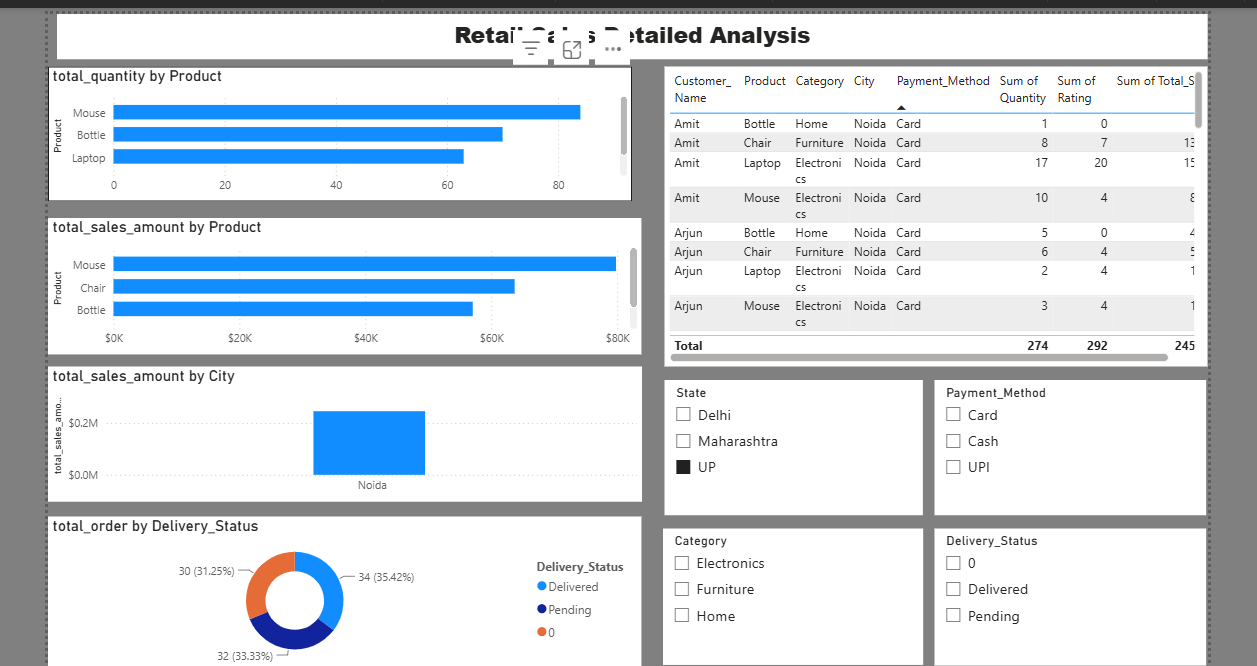

The page's visual inventory and layout, read from the dashboard file:
{"tool":"powerbi","page":{"name":"detailed analysis","canvas":[1280,720],"ordinal":1},"visuals":[{"type":"textbox","box":[9.9,0,1270.5,49.7],"z":0},{"type":"clusteredBarChart","fields":{"Category":["dim_product.Product"],"Y":["fact_table.total_sales_amount"]},"box":[0,224.6,655.3,151],"z":1},{"type":"clusteredColumnChart","fields":{"Category":["dim_customer.City"],"Y":["fact_table.total_sales_amount"]},"box":[0,389.3,655.8,149.3],"z":2},{"type":"donutChart","fields":{"Category":["fact_table.Delivery_Status"],"Y":["dim_customer.total_order"]},"box":[0,554.1,655.3,165.7],"z":3},{"type":"clusteredBarChart","fields":{"Category":["dim_product.Product"],"Y":["dim_customer.total_quantity"]},"box":[0,58.6,644.4,149.3],"z":4},{"type":"tableEx","fields":{"Values":["dim_customer.Customer_Name","dim_product.Product","dim_product.Category","dim_customer.City","fact_table.Payment_Method","Sum(fact_table.Quantity)","Sum(fact_table.Rating)","Sum(fact_table.Total_Sales)"]},"box":[680.3,58.6,599.1,330.7],"z":5},{"type":"slicer","fields":{"Values":["dim_product.Category"]},"box":[679.3,568.8,287.2,151],"z":6},{"type":"slicer","fields":{"Values":["dim_customer.State"]},"box":[681.1,405,285.3,149.1],"z":7},{"type":"slicer","fields":{"Values":["fact_table.Payment_Method"]},"box":[979.3,405,300.1,149.1],"z":8},{"type":"slicer","fields":{"Values":["fact_table.Delivery_Status"]},"box":[979,569,300,151],"z":9}]}

Visuals, with their boxes in screenshot pixels (x1, y1, x2, y2):
textbox: detection(52, 10, 1208, 55)
clusteredBarChart - dim_product.Product x fact_table.total_sales_amount: detection(43, 214, 639, 352)
clusteredColumnChart - dim_customer.City x fact_table.total_sales_amount: detection(43, 364, 639, 500)
donutChart - fact_table.Delivery_Status x dim_customer.total_order: detection(43, 514, 639, 665)
clusteredBarChart - dim_product.Product x dim_customer.total_quantity: detection(43, 63, 629, 199)
tableEx - dim_customer.Customer_Name x dim_product.Product: detection(662, 63, 1207, 364)
slicer - dim_product.Category: detection(661, 528, 922, 665)
slicer - dim_customer.State: detection(662, 378, 922, 514)
slicer - fact_table.Payment_Method: detection(934, 378, 1207, 514)
slicer - fact_table.Delivery_Status: detection(934, 528, 1207, 665)
